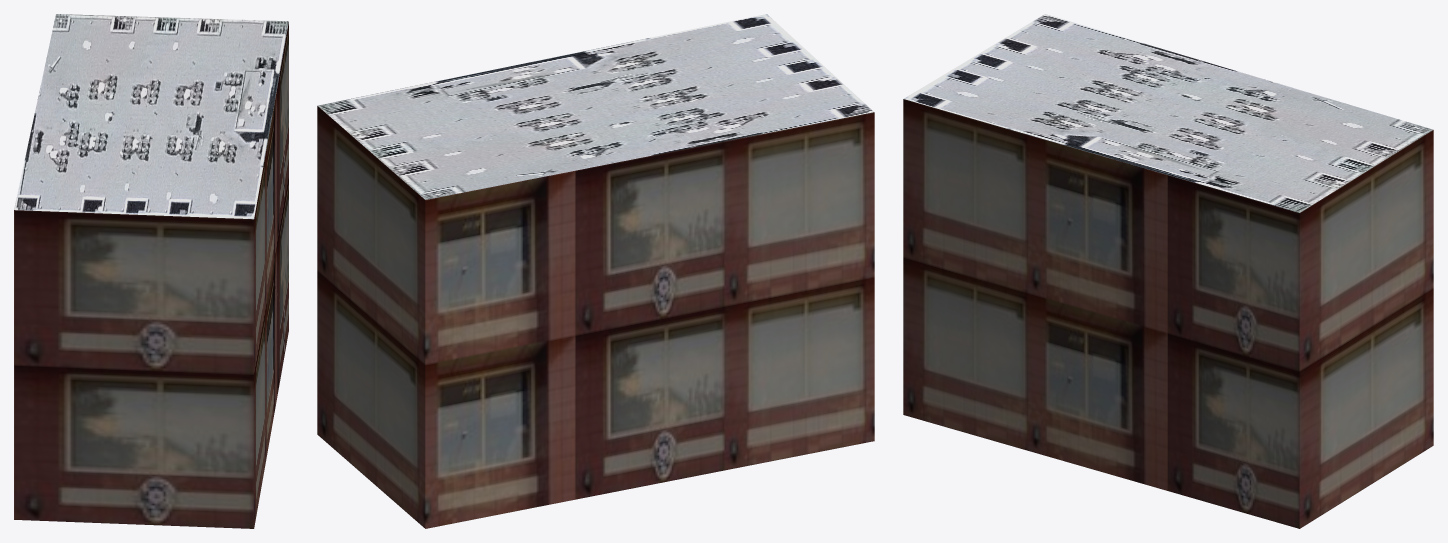
The model's file is ResTex__3880.fbx.
3 views of the same model, side by side, from view 1: azimuth 30°, elevation 25°; view 2: azimuth 150°, elevation 25°; view 3: azimuth 270°, elevation 25° (orthographic). The views are drawn at different scales.
Visible parts, largest first — view 1: CityEngineMaterial_13_m, CityEngineMaterial_8_m; view 2: CityEngineMaterial_13_m, CityEngineMaterial_8_m; view 3: CityEngineMaterial_13_m, CityEngineMaterial_8_m.
Boxes of the visible parts, <box> form: CityEngineMaterial_13_m: <box>14,22,288,528</box>; CityEngineMaterial_8_m: <box>14,14,288,219</box>; CityEngineMaterial_13_m: <box>317,106,874,528</box>; CityEngineMaterial_8_m: <box>318,14,874,199</box>; CityEngineMaterial_13_m: <box>903,99,1433,528</box>; CityEngineMaterial_8_m: <box>904,14,1432,212</box>.
Bounding box in the file's own units: 8.1 × 6 × 9.12.
2 materials, 2 textured.
